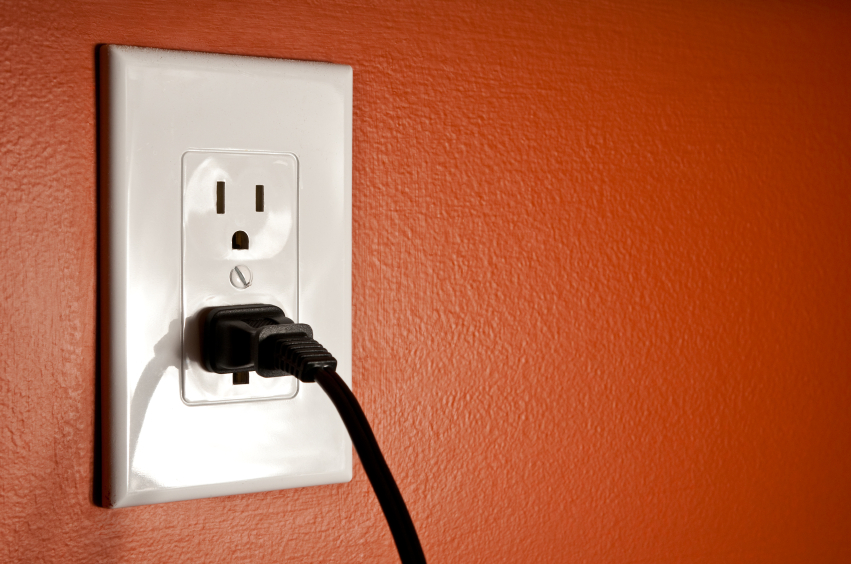outlet: (206, 174, 274, 260)
